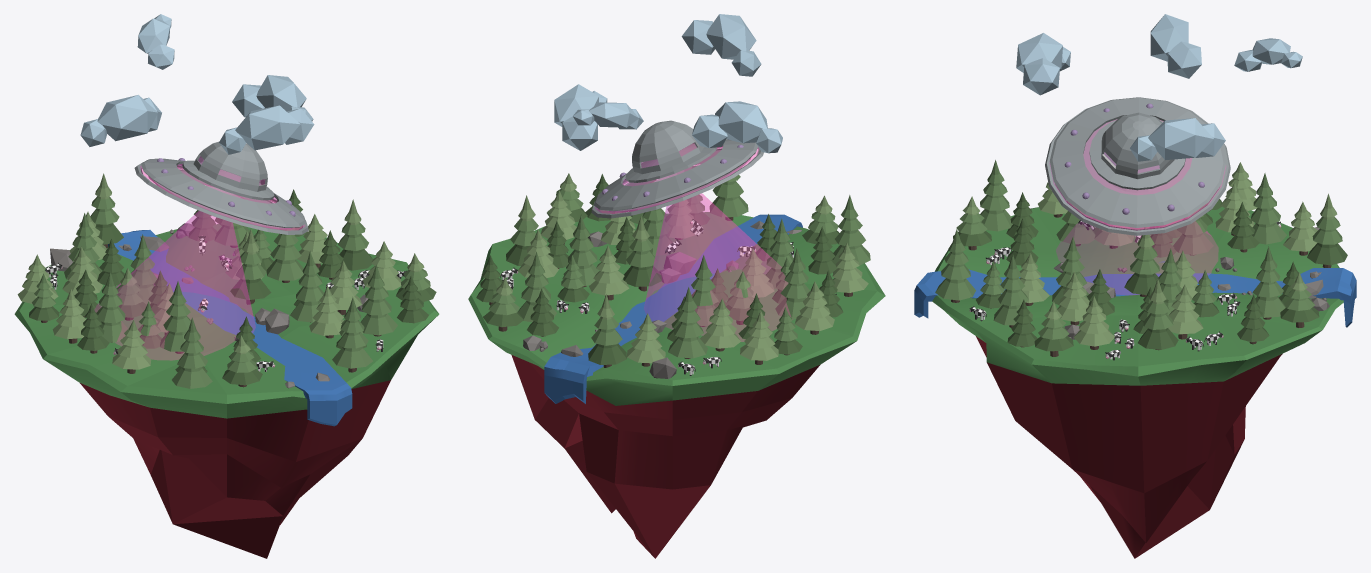
3 views of the same model, side by side, from view 1: azimuth 30°, elevation 25°; view 2: azimuth 150°, elevation 25°; view 3: azimuth 270°, elevation 25° (orthographic).
Visible parts, largest first — view 1: Base, pCylinder4, UFO2, pCube1, Tree_Big (×5), pPlatonic8, Tree_Mid (×3), pPlatonic6, pPlatonic5, Tree_Big9, Tree_Big1, pPlatonic7 (+21 smaller); view 2: Base, pCylinder4, UFO2, pCube1, Tree_Big (×4), pPlatonic6, pPlatonic8, Tree_Mid (×3), Tree_Small (×3), pPlatonic5, Tree_Big9, Tree_Big3 (+25 smaller); view 3: Base, UFO2, Tree_Big (×5), pCylinder4, pCube1, pPlatonic5, pPlatonic8, pPlatonic6, Tree_Mid (×2), Tree_Big3, Tree_Big1, pPlatonic7 (+23 smaller).
Boxes of the visible parts, x1,y1,x2,y2 form: Base: (14, 224, 439, 558); pCylinder4: (94, 211, 255, 360); UFO2: (134, 141, 308, 234); pCube1: (108, 230, 352, 426); Tree_Big (×5): (130, 199, 397, 388); pPlatonic8: (219, 105, 314, 154); Tree_Mid (×3): (117, 214, 343, 338); pPlatonic6: (80, 95, 161, 146); pPlatonic5: (232, 75, 313, 121); Tree_Big9: (230, 229, 271, 304); Tree_Big1: (332, 297, 372, 372); pPlatonic7: (137, 14, 174, 69); Base: (468, 212, 885, 558); pCylinder4: (644, 193, 790, 341); UFO2: (591, 120, 763, 218); pCube1: (544, 214, 802, 403); Tree_Big (×4): (506, 195, 870, 326); pPlatonic6: (692, 101, 782, 153); pPlatonic8: (681, 14, 761, 76); Tree_Mid (×3): (518, 199, 754, 324); Tree_Small (×3): (527, 221, 837, 336); pPlatonic5: (554, 84, 607, 150); Tree_Big9: (623, 216, 661, 291); Tree_Big3: (588, 294, 626, 367); Base: (932, 206, 1343, 558); UFO2: (1045, 97, 1230, 235); Tree_Big (×5): (980, 160, 1285, 350); pCylinder4: (1056, 219, 1218, 294); pCube1: (914, 261, 1356, 327); pPlatonic5: (1130, 118, 1225, 161); pPlatonic8: (1016, 33, 1070, 95); pPlatonic6: (1150, 14, 1201, 78); Tree_Mid (×2): (1019, 253, 1203, 339); Tree_Big3: (1307, 193, 1347, 267); Tree_Big1: (935, 229, 975, 302); pPlatonic7: (1234, 38, 1302, 71).
Size of the model in its own units: 17.02 by 21.98 by 17.64.
